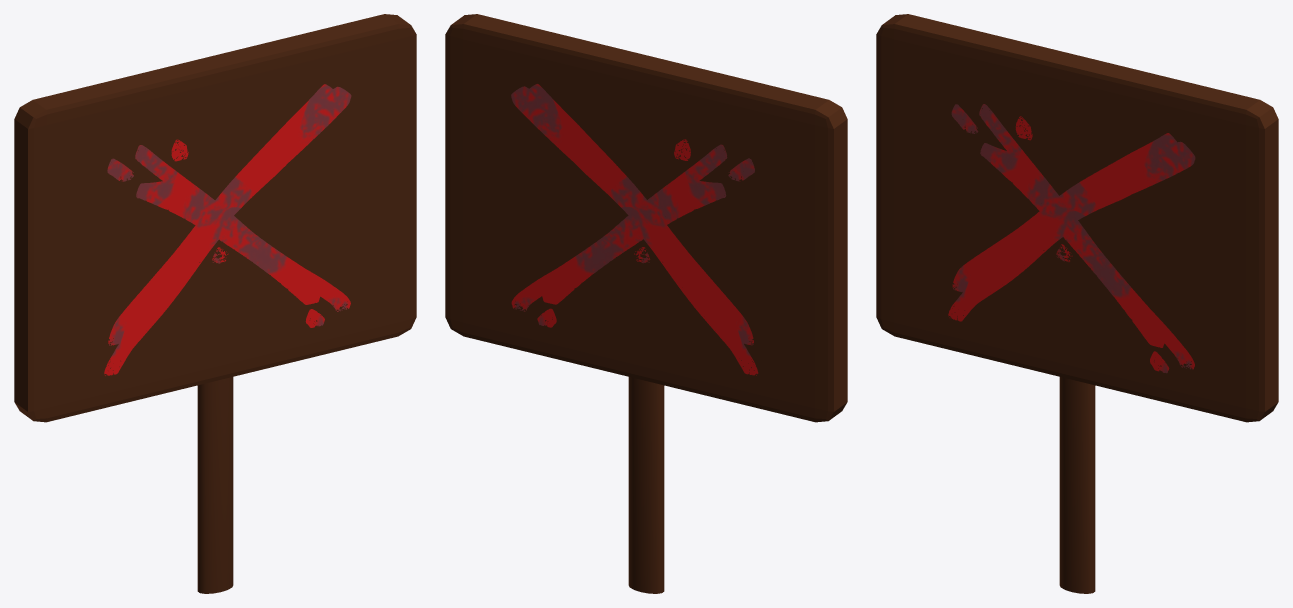
File: board01.fbx
3 views of the same model, side by side, from view 1: azimuth 30°, elevation 25°; view 2: azimuth 150°, elevation 25°; view 3: azimuth 330°, elevation 25° (orthographic).
Parts seen in each view (by area): view 1: Cylinder.017, Cylinder.018; view 2: Cylinder.017, Cylinder.019; view 3: Cylinder.017, Cylinder.018.
Part boxes in pixels (bbox=[...]): Cylinder.017: bbox=[14, 14, 416, 593]; Cylinder.018: bbox=[104, 84, 351, 375]; Cylinder.017: bbox=[445, 14, 847, 593]; Cylinder.019: bbox=[511, 84, 758, 375]; Cylinder.017: bbox=[876, 14, 1278, 593]; Cylinder.018: bbox=[948, 104, 1195, 373].
Bounding box in the file's own units: 58.32 × 75.5 × 4.52.
